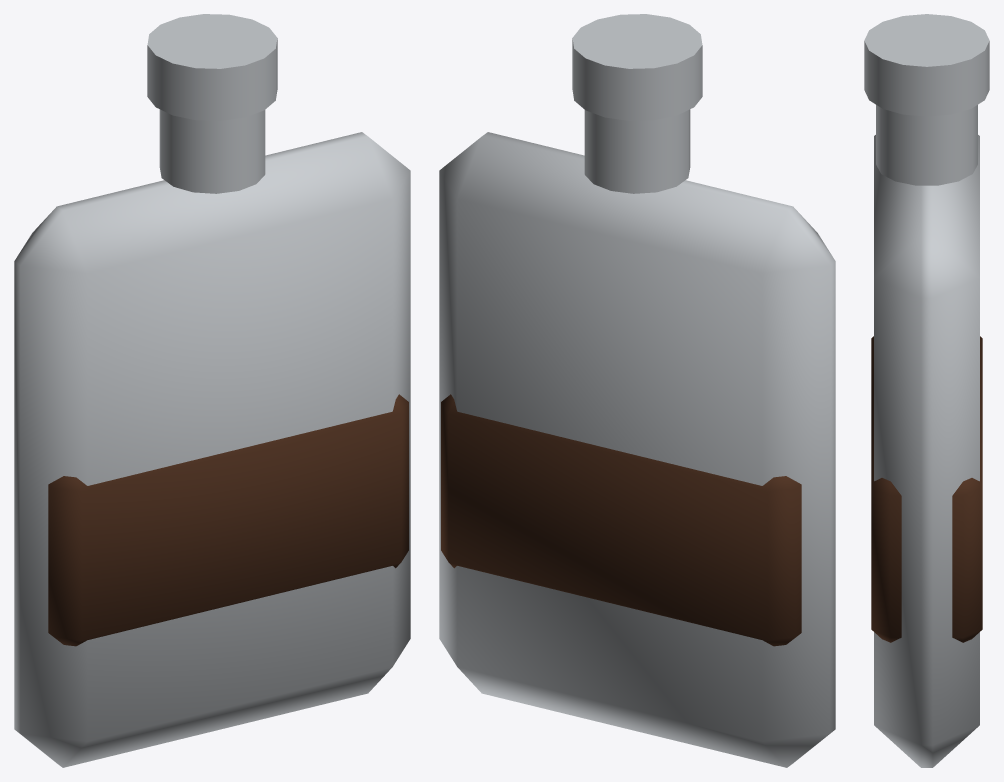
Rendered from bottle_hip_flask_steel.glb.
3 renders of one model, left to right at view 1: azimuth 30°, elevation 25°; view 2: azimuth 150°, elevation 25°; view 3: azimuth 270°, elevation 25°, orthographic. The views are drawn at different scales.
Visible parts, largest first — view 1: bottle_hip_flask_steel; view 2: bottle_hip_flask_steel; view 3: bottle_hip_flask_steel.
Boxes of the visible parts, x1,y1,x2,y2 form: bottle_hip_flask_steel: (14,14,410,767); bottle_hip_flask_steel: (439,14,835,767); bottle_hip_flask_steel: (864,14,989,767).
Bounding box in the file's own units: 0.11 × 0.185 × 0.032.
